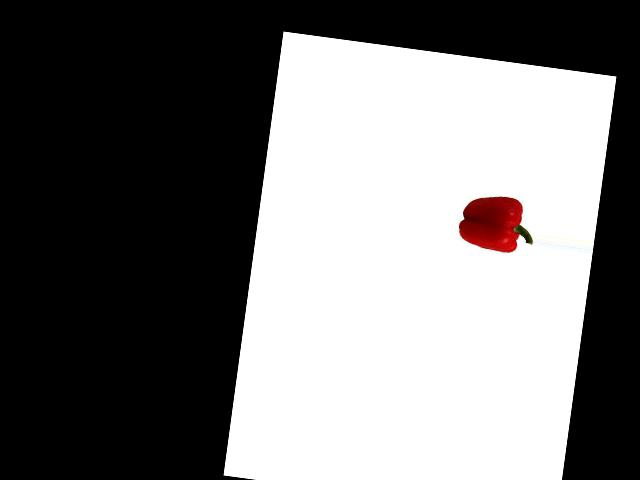bell_pepper: (455, 183, 538, 258)
